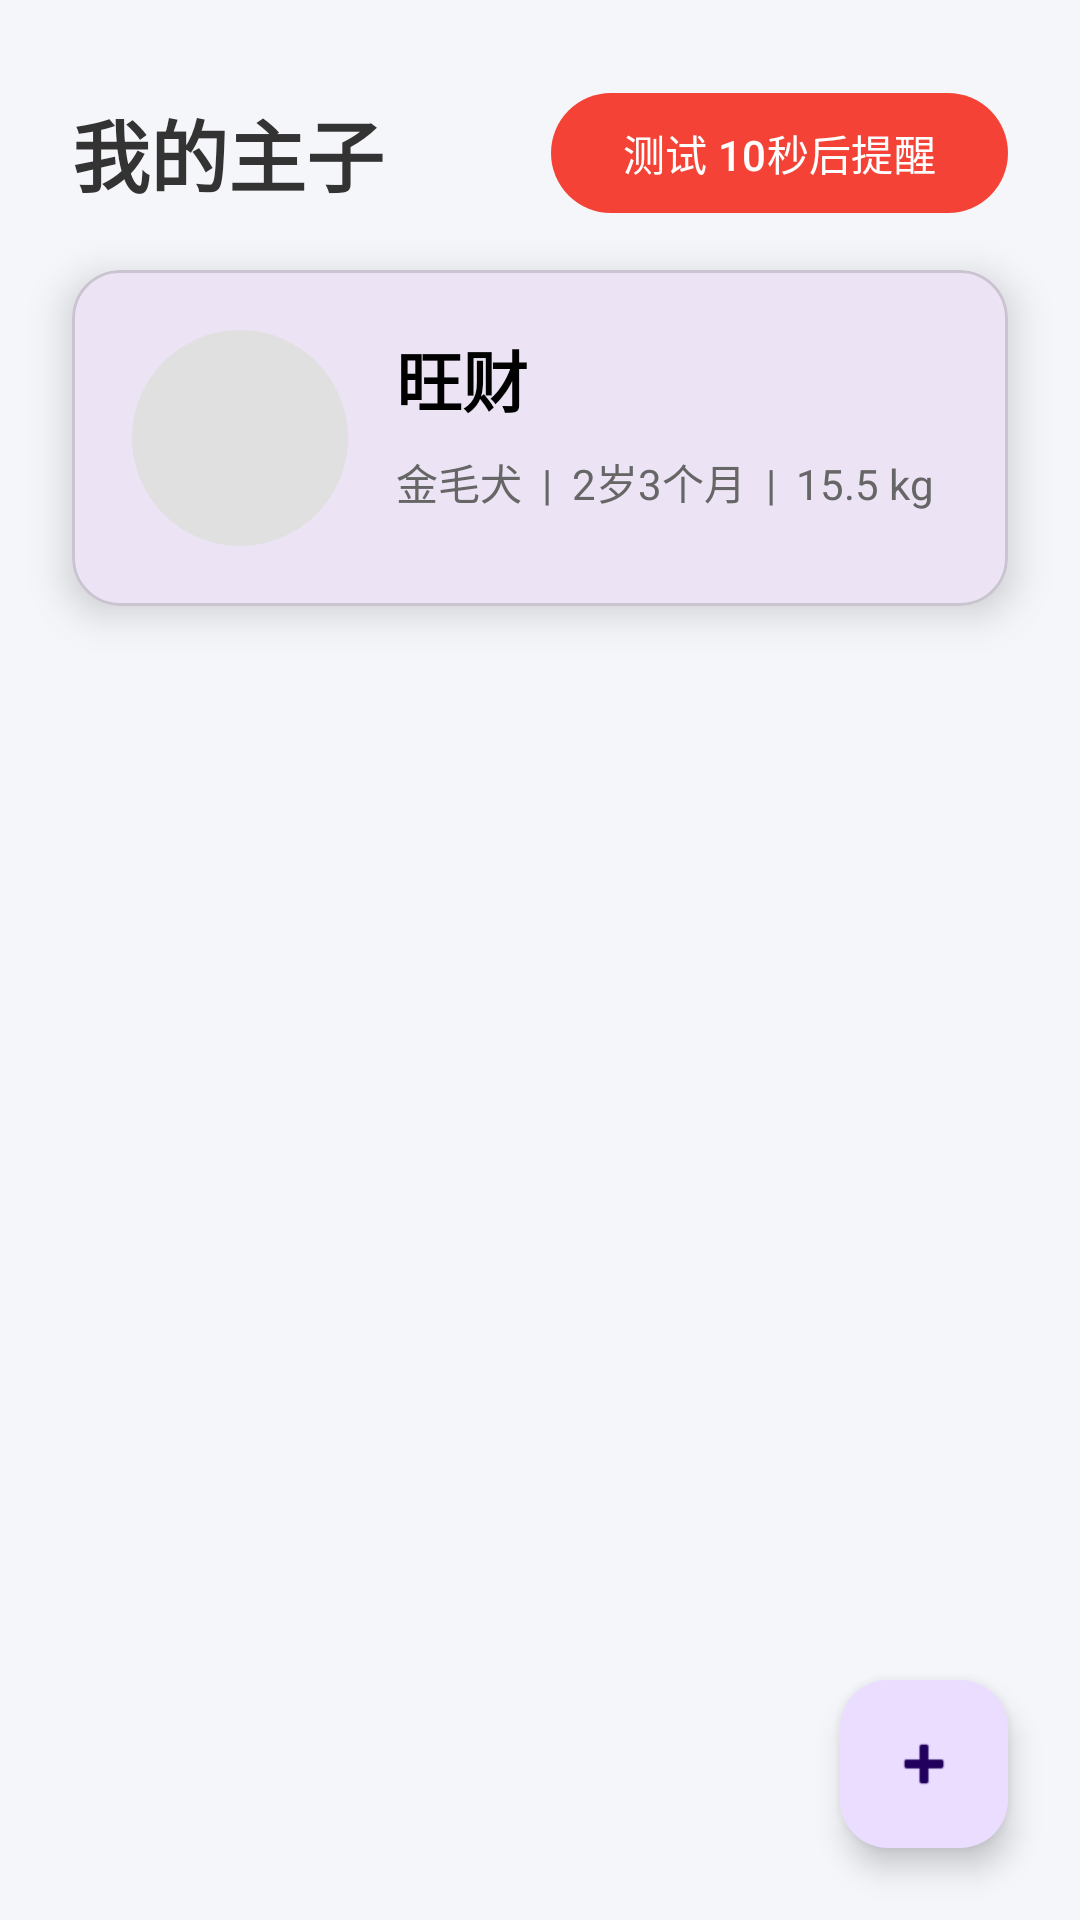

Icon bounding boxes for this 1080 × 1920 phone screenshot, format (x1, y1, x2, y2):
添加新宠物: (840, 1680, 1008, 1848)
